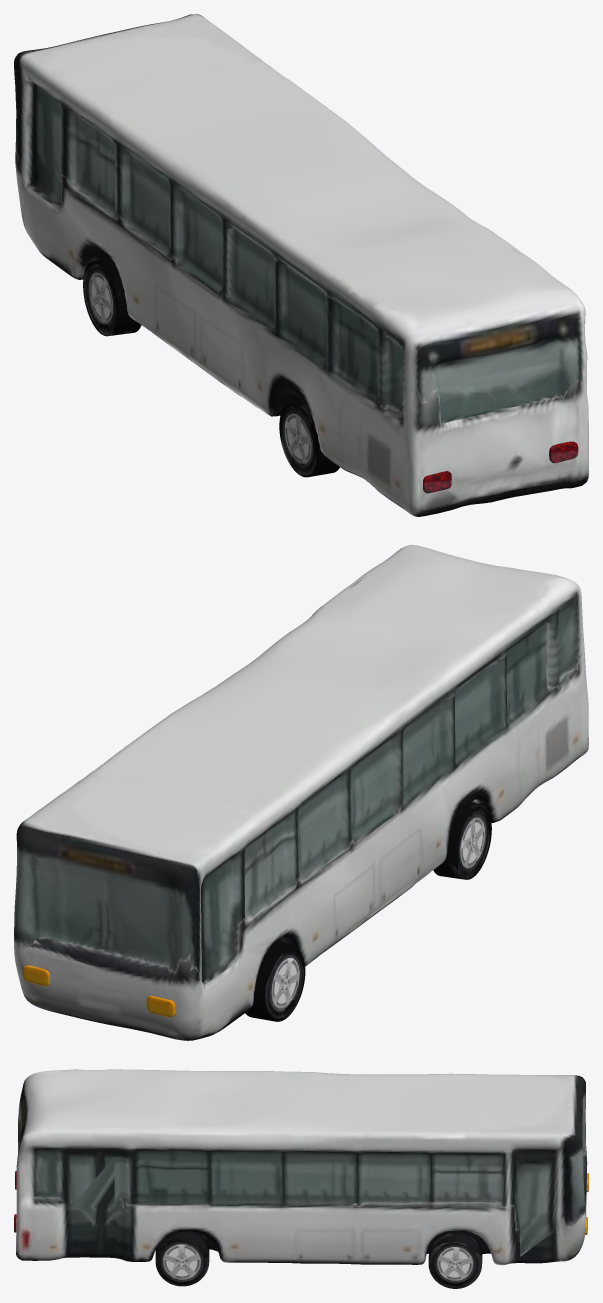
The model's file is bus_4ef317_lod1.glb.
3 renders of one model, top to bottom at view 1: azimuth 30°, elevation 25°; view 2: azimuth 150°, elevation 25°; view 3: azimuth 270°, elevation 25°, orthographic. The views are drawn at different scales.
Visible parts, largest first — view 1: body, wheel_fl, wheel_rl; view 2: body, wheel_fl, wheel_rl; view 3: body, wheel_fr, wheel_rr.
Part boxes in pixels (bbox=[...]): body: bbox=[14, 14, 588, 516]; wheel_fl: bbox=[83, 259, 141, 336]; wheel_rl: bbox=[279, 401, 339, 477]; body: bbox=[14, 545, 588, 1040]; wheel_fl: bbox=[245, 944, 305, 1021]; wheel_rl: bbox=[433, 803, 491, 879]; body: bbox=[14, 1069, 588, 1265]; wheel_fr: bbox=[428, 1230, 482, 1288]; wheel_rr: bbox=[155, 1231, 209, 1286].
Size of the model in its own units: 2.7 by 3.12 by 10.2.
7 materials, 7 textured.
